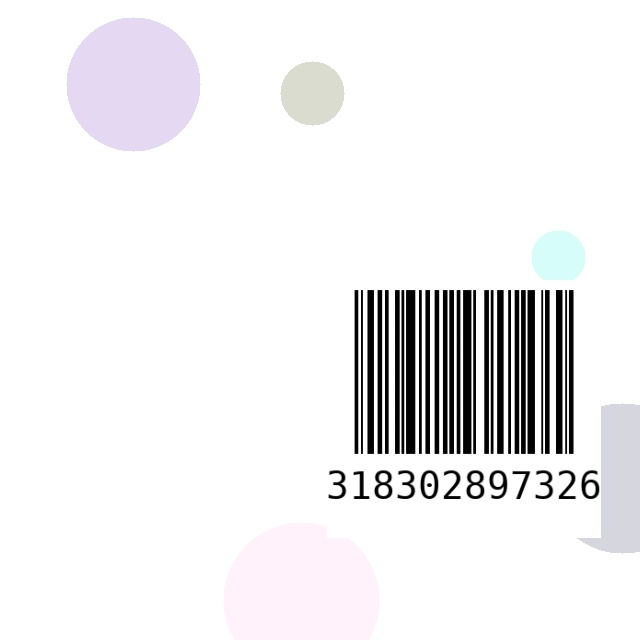barcode: (327, 280, 601, 538)
